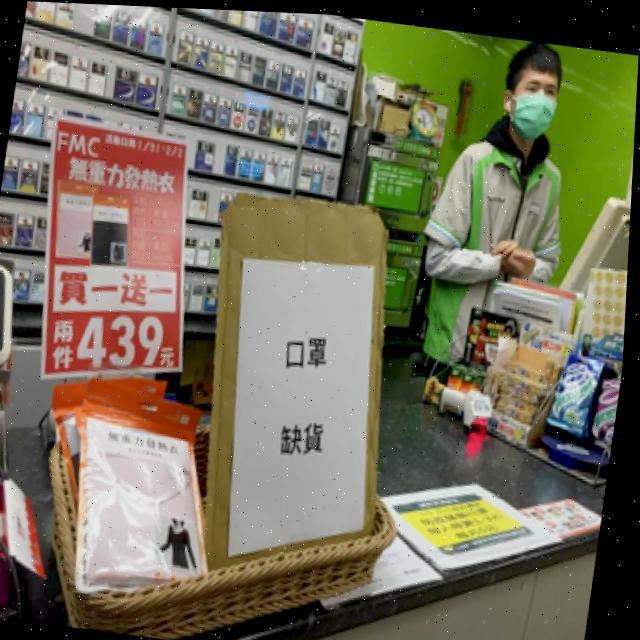Mask: (495, 79, 560, 134)
